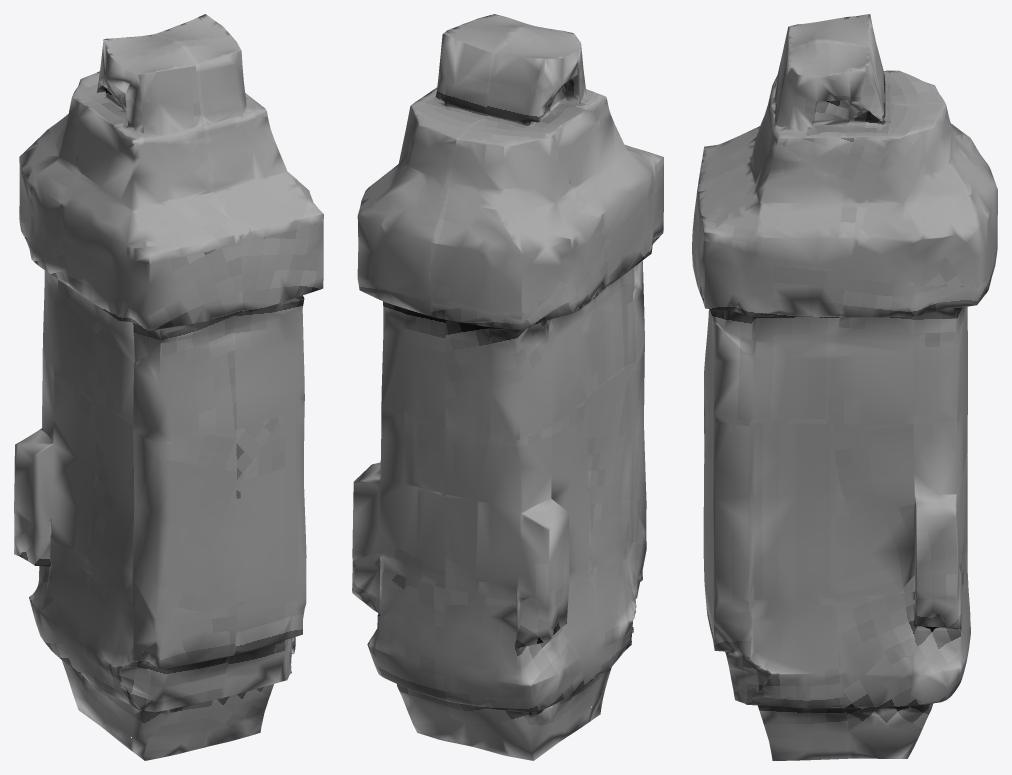
Rendered from s_marker.glb.
3 renders of one model, left to right at view 1: azimuth 30°, elevation 25°; view 2: azimuth 150°, elevation 25°; view 3: azimuth 270°, elevation 25°, orthographic.
Parts seen in each view (by area): view 1: tripo_node_146e5251-4d62-429b-a72f-9c6fe8dafb22; view 2: tripo_node_146e5251-4d62-429b-a72f-9c6fe8dafb22; view 3: tripo_node_146e5251-4d62-429b-a72f-9c6fe8dafb22.
Part boxes in pixels (box(x1,y1,x2,y2)): tripo_node_146e5251-4d62-429b-a72f-9c6fe8dafb22: box(14, 14, 323, 760); tripo_node_146e5251-4d62-429b-a72f-9c6fe8dafb22: box(352, 14, 663, 760); tripo_node_146e5251-4d62-429b-a72f-9c6fe8dafb22: box(692, 14, 997, 760).
Size of the model in its own units: 0.312 by 0.9994 by 0.3994.
1 material, 1 textured.
